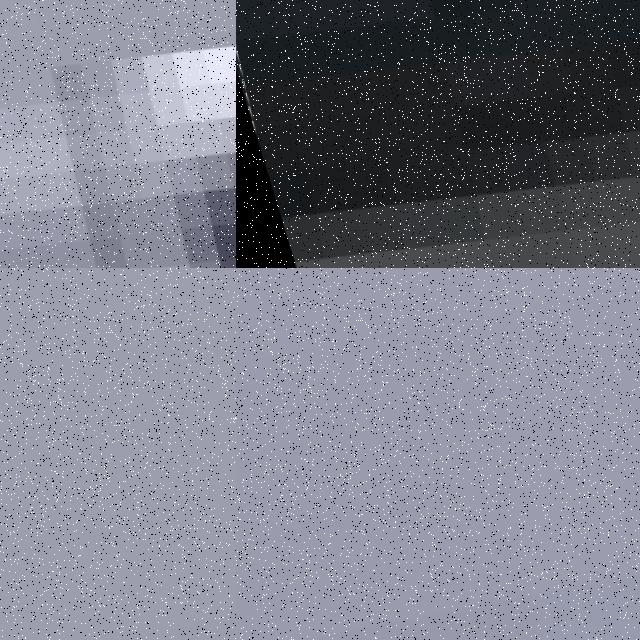0: (0, 0, 236, 268)
drone: (236, 0, 640, 268)
